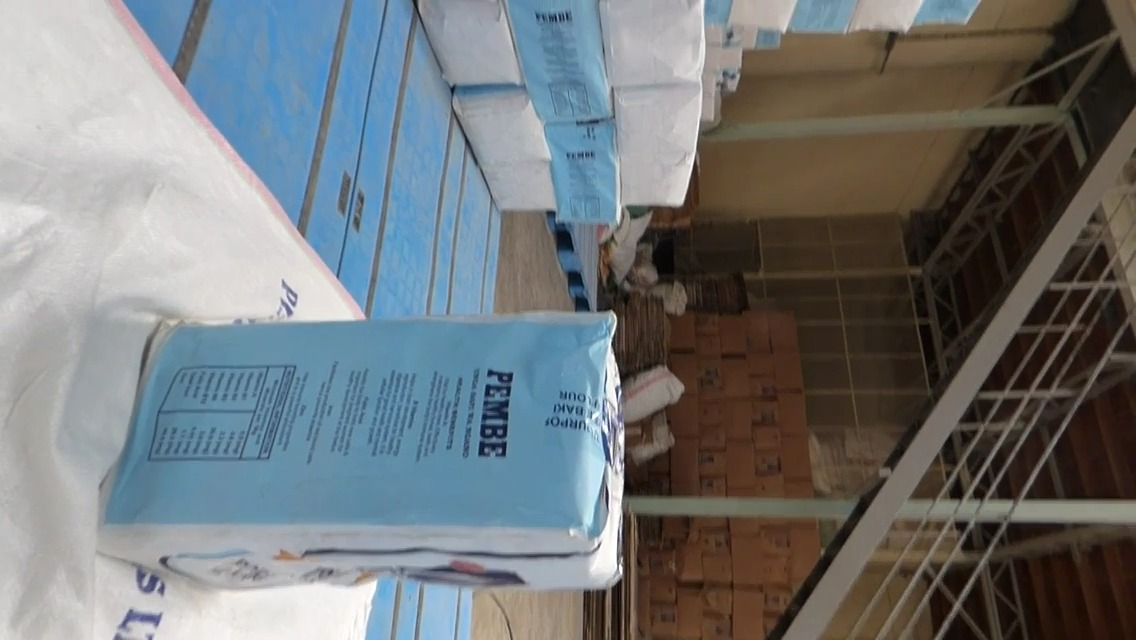wheat_flour_blue_label: (112, 310, 626, 599)
